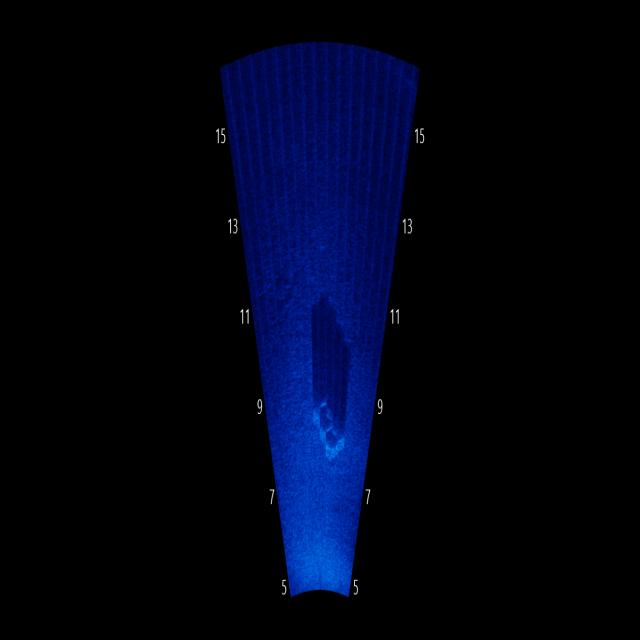square: (307, 371, 354, 479)
